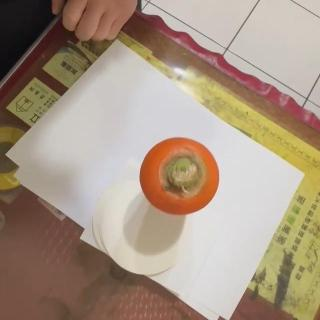carrot: (137, 135, 219, 215)
